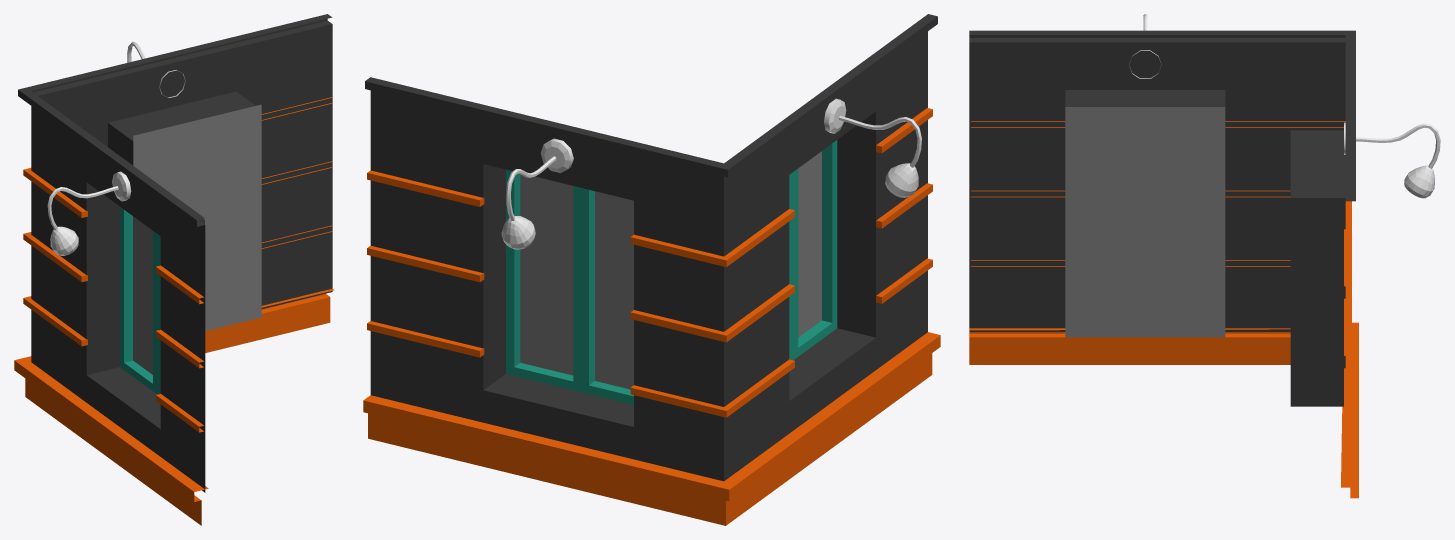
The model's file is SM_B_Corner_Build_03.fbx.
3 renders of one model, left to right at view 1: azimuth 30°, elevation 25°; view 2: azimuth 150°, elevation 25°; view 3: azimuth 270°, elevation 25°, orthographic. The views are drawn at different scales.
Visible parts, largest first — view 1: Plane028, SM_B_Corner_Build_03, Box186, Box214, Box215, Box202, Line007, Cylinder007; view 2: Plane028, SM_B_Corner_Build_03, Box186, Box214, Box215, Box202, Box182, Cylinder006; view 3: Plane028, SM_B_Corner_Build_03, Box214, Box215, Box186, Box182, Line006.
Part boxes in pixels (x1,y1,x2,y2): Plane028: (18,14,332,492); SM_B_Corner_Build_03: (14,104,334,525); Box186: (23,225,332,432); Box214: (23,161,332,368); Box215: (23,97,332,304); Box202: (50,226,78,255); Line007: (47,186,118,230); Cylinder007: (112,171,131,201); Plane028: (365,14,937,481); SM_B_Corner_Build_03: (363,140,940,525); Box186: (367,258,932,417); Box214: (367,183,932,342); Box215: (367,108,932,267); Box202: (885,163,918,197); Box182: (501,215,535,249); Cylinder006: (540,138,573,172); Plane028: (969,30,1355,406); SM_B_Corner_Build_03: (969,107,1358,498); Box214: (971,190,1351,355); Box215: (971,121,1351,286); Box186: (971,260,1351,425); Box182: (1404,165,1434,198); Line006: (1356,123,1440,168).
Size of the model in its own units: 671 by 521 by 671.
